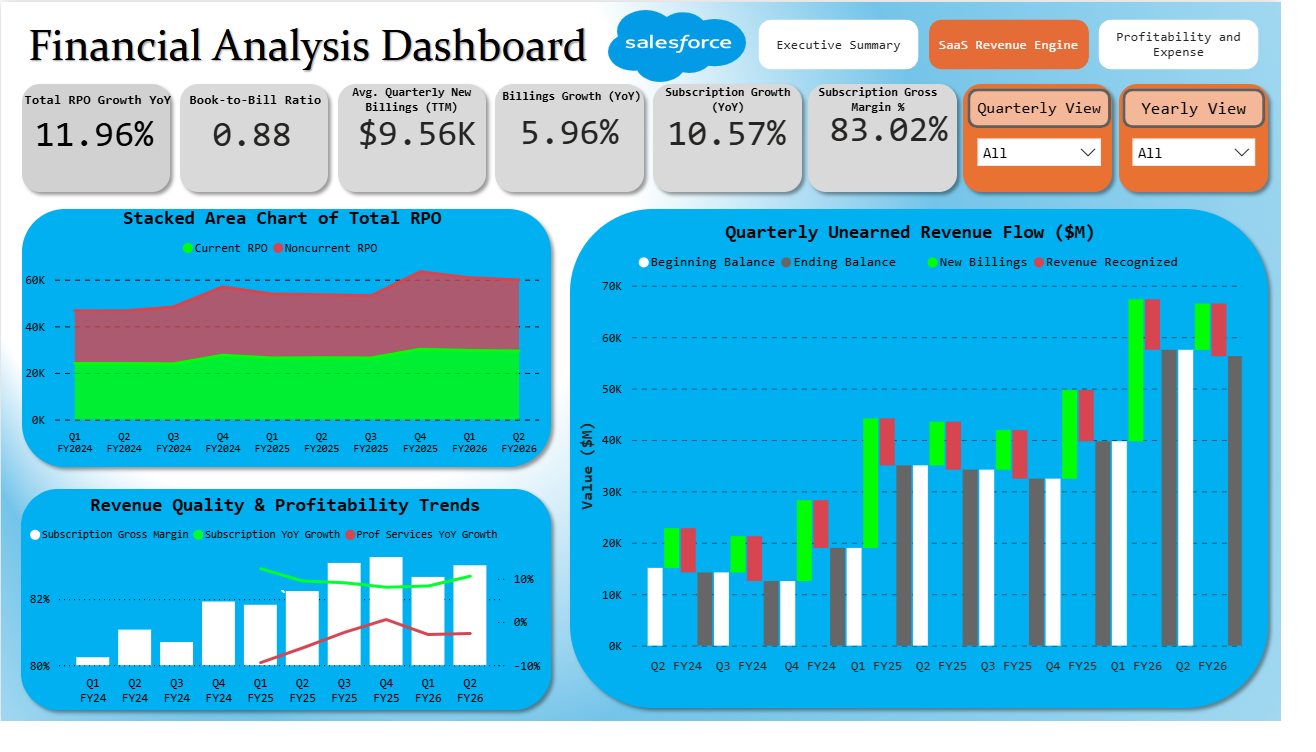

The dashboard page shown, as its layout file describes it:
{"tool":"powerbi","page":{"name":"SaaS Revenue Engine","canvas":[1280,720],"ordinal":1},"visuals":[{"type":"columnChart","title":"Quarterly Unearned Revenue Flow ($M)","fields":{"Y":["Sum(waterfall_table_corrected.Start Pillar)","Sum(waterfall_table_corrected.End Pillar)","Sum(waterfall_table_corrected.Invisible Base)","Sum(waterfall_table_corrected.Increase)","Sum(waterfall_table_corrected.Decrease)"],"Category":["waterfall_table_corrected.Quarter","waterfall_table_corrected.Quarter Sort"]},"box":[577.9,218.4,663.5,448.8],"z":0},{"type":"textbox","box":[645.4,651.5,65.1,30.2],"z":1000},{"type":"stackedAreaChart","title":"Stacked Area Chart of Total RPO","fields":{"Category":["Qdata.Period"],"Y":["Sum(Qdata.CurrentRPO (millions USD))","Sum(Qdata.NonCurrentRPO (millions USD))"]},"box":[15.7,205.1,529.6,255.8],"z":2000},{"type":"lineClusteredColumnComboChart","title":"Revenue Quality & Profitability Trends","fields":{"Category":["Bar Line and SRE.quarter"],"Y":["Bar Line and SRE.Subscription Gross Margin % (Column)"],"Y2":["Sum(Bar Line and SRE.Adjusted Sales)","Sum(Bar Line and SRE.Adjusted Prof)"]},"box":[24.1,492.2,521.2,218.4],"z":3000},{"type":"pageNavigator","box":[757.5,17.5,500,50],"z":4000},{"type":"textbox","box":[710.6,651.5,65.1,30.2],"z":5000},{"type":"textbox","box":[779.4,651.5,65.1,30.2],"z":6000},{"type":"textbox","box":[844.5,651.5,65.1,30.2],"z":7000},{"type":"textbox","box":[909.7,651.5,65.1,30.2],"z":8000},{"type":"textbox","box":[974.8,651.5,65.1,30.2],"z":9000},{"type":"textbox","box":[1040,651.5,65.1,30.2],"z":10000},{"type":"textbox","box":[1105.1,651.5,65.1,30.2],"z":11000},{"type":"textbox","box":[1170.2,651.5,65.1,30.2],"z":12000},{"type":"actionButton","box":[966.2,86.2,143.8,40],"z":13000},{"type":"actionButton","box":[1121.2,86.2,143,40],"z":14000},{"type":"slicer","fields":{"Values":["Qdata.Period"]},"box":[966.2,126.2,143.8,47.5],"z":15000},{"type":"slicer","fields":{"Values":["FYdata.Period"]},"box":[1121.2,126.2,142.5,47.5],"z":16000},{"type":"card","fields":{"Values":["Qdata.KPI 1: Total RPO (PY)"]},"box":[19.2,94.7,149.6,70],"z":17000},{"type":"card","fields":{"Values":["Qdata.KPI 2: Book-to-Bill Ratio"]},"box":[175.6,94.7,149.6,70],"z":18000},{"type":"card","fields":{"Values":["Qdata.Final KPI 4: Billings Growth (YoY)"]},"box":[493.2,93.3,150.1,69.4],"z":19000},{"type":"card","fields":{"Values":["Qdata.Final KPI 3: Avg. Quarterly New Billings (TTM)"]},"box":[341.7,93.3,150.9,70],"z":20000},{"type":"card","fields":{"Values":["Qdata.KPI 5: Subscription Growth (YoY)"]},"box":[651.8,93.3,149.6,70],"z":21000},{"type":"card","fields":{"Values":["Qdata.KPI 6: Subscription Gross Margin %"]},"box":[812.4,90.6,150.9,70],"z":22000},{"type":"shape","box":[18.8,80,156.2,35.6],"z":23000},{"type":"shape","box":[175.6,79.6,156.4,35.7],"z":24000},{"type":"shape","box":[332.1,79.6,156.4,35.7],"z":25000},{"type":"shape","box":[492.6,76.8,156.4,35.7],"z":26000},{"type":"shape","box":[649.1,79.6,156.4,35.7],"z":27000},{"type":"shape","box":[798.6,79.6,156.4,35.7],"z":28000}]}

Visuals, with their boxes in screenshot pixels (x1, y1, x2, y2), scaled from the page's 1280x720 canvas onto the 1316x752 screenshot:
"Quarterly Unearned Revenue Flow ($M)" columnChart: 594,228,1276,697
textbox: 664,680,730,712
"Stacked Area Chart of Total RPO" stackedAreaChart: 16,214,561,481
"Revenue Quality & Profitability Trends" lineClusteredColumnComboChart: 25,514,561,742
pageNavigator: 779,18,1293,70
textbox: 731,680,798,712
textbox: 801,680,868,712
textbox: 868,680,935,712
textbox: 935,680,1002,712
textbox: 1002,680,1069,712
textbox: 1069,680,1136,712
textbox: 1136,680,1203,712
textbox: 1203,680,1270,712
actionButton: 993,90,1141,132
actionButton: 1153,90,1300,132
slicer - Qdata.Period: 993,132,1141,181
slicer - FYdata.Period: 1153,132,1299,181
card - Qdata.KPI 1: Total RPO (PY): 20,99,174,172
card - Qdata.KPI 2: Book-to-Bill Ratio: 181,99,334,172
card - Qdata.Final KPI 4: Billings Growth (YoY): 507,97,661,170
card - Qdata.Final KPI 3: Avg. Quarterly New Billings (TTM): 351,97,506,171
card - Qdata.KPI 5: Subscription Growth (YoY): 670,97,824,171
card - Qdata.KPI 6: Subscription Gross Margin %: 835,95,990,168
shape: 19,84,180,121
shape: 181,83,341,120
shape: 341,83,502,120
shape: 506,80,667,118
shape: 667,83,828,120
shape: 821,83,982,120
